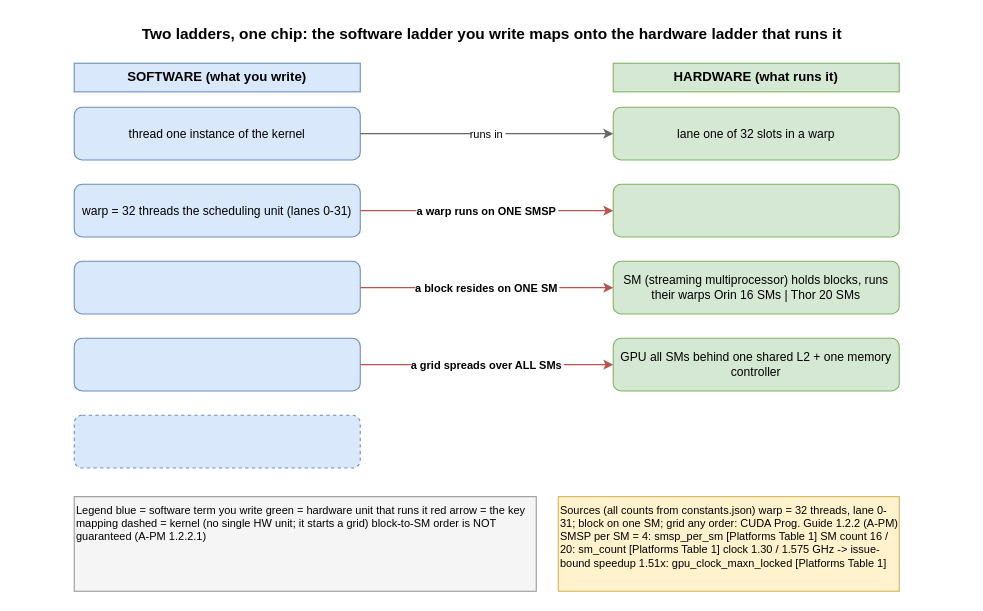
This 983x611 diagram has some shape labels left out. Here are the shapes that lost their labels. From the top down, the centre of each, then its label:
At (755,210): "SMSP (sub-partition) 1 warp scheduler + 1 dispatch port 4 per SM".
At (216,287): "block threads that share memory + sync".
At (216,364): "grid all blocks of one launch".
At (216,441): "kernel the function launched on the grid".
